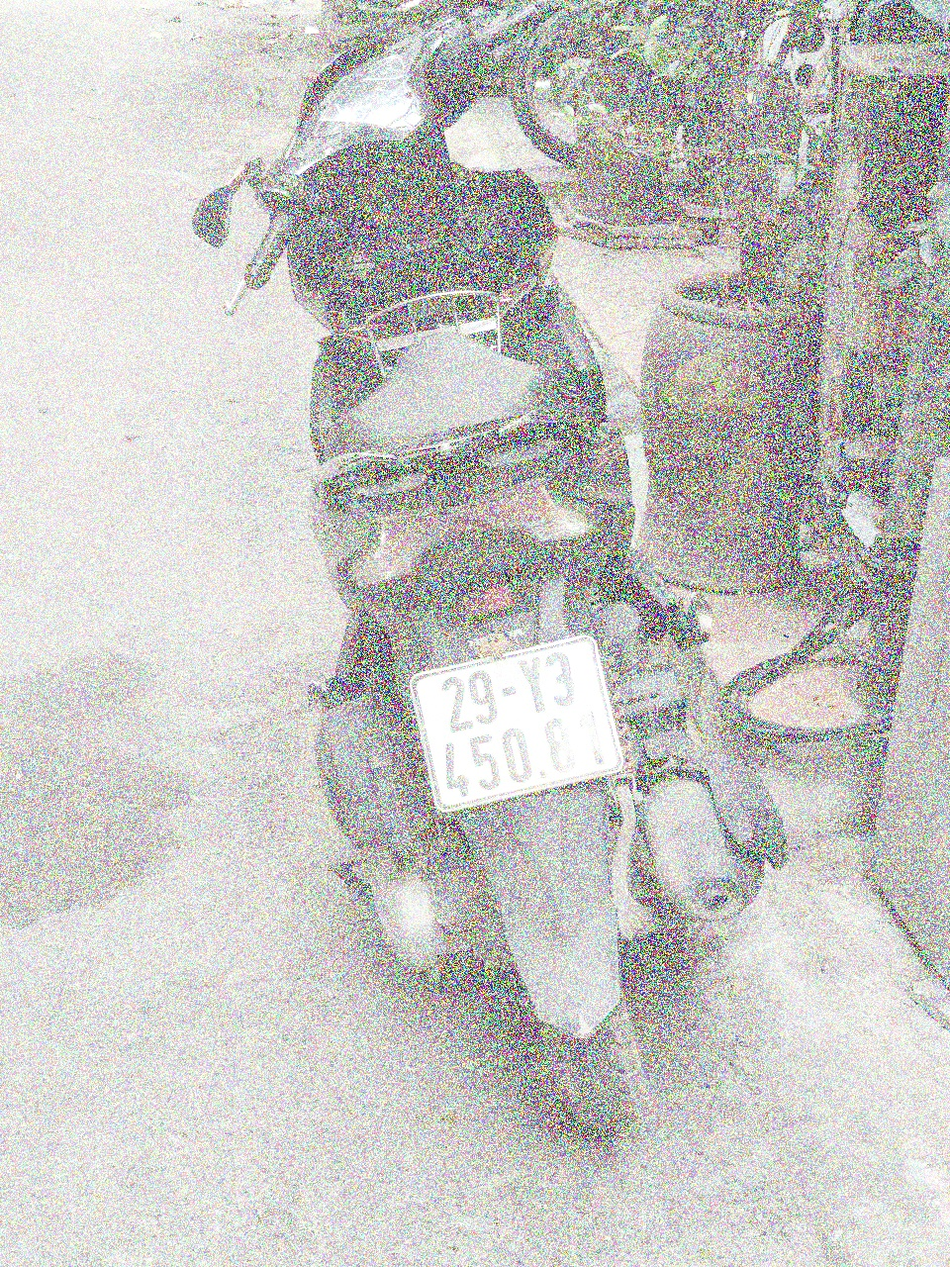plate: (326, 6, 445, 57)
